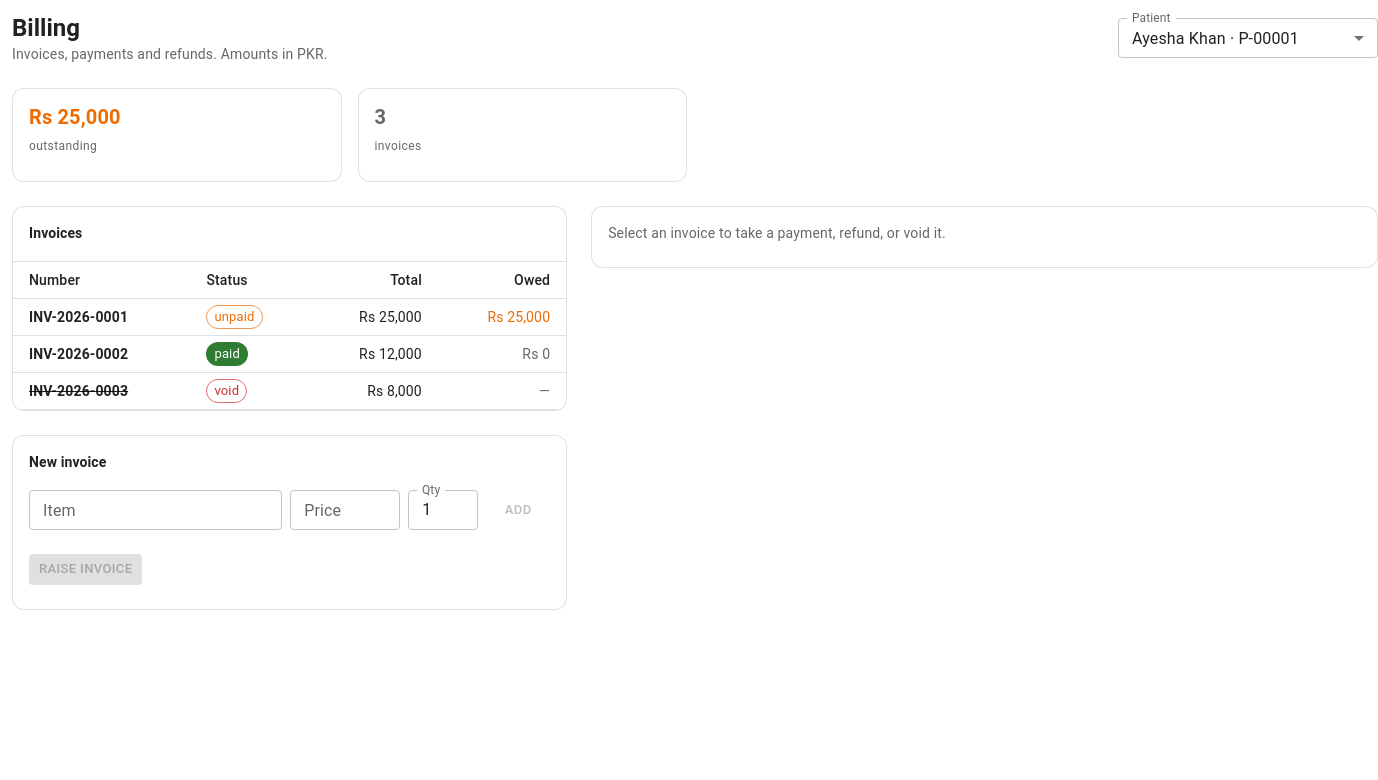
Test case: taking a payment › offers no payment box once the invoice is settled
This screenshot has width=1378, height=780.
Click the text "INV-2026-0002" at (102, 354), box [13,336,190,372]
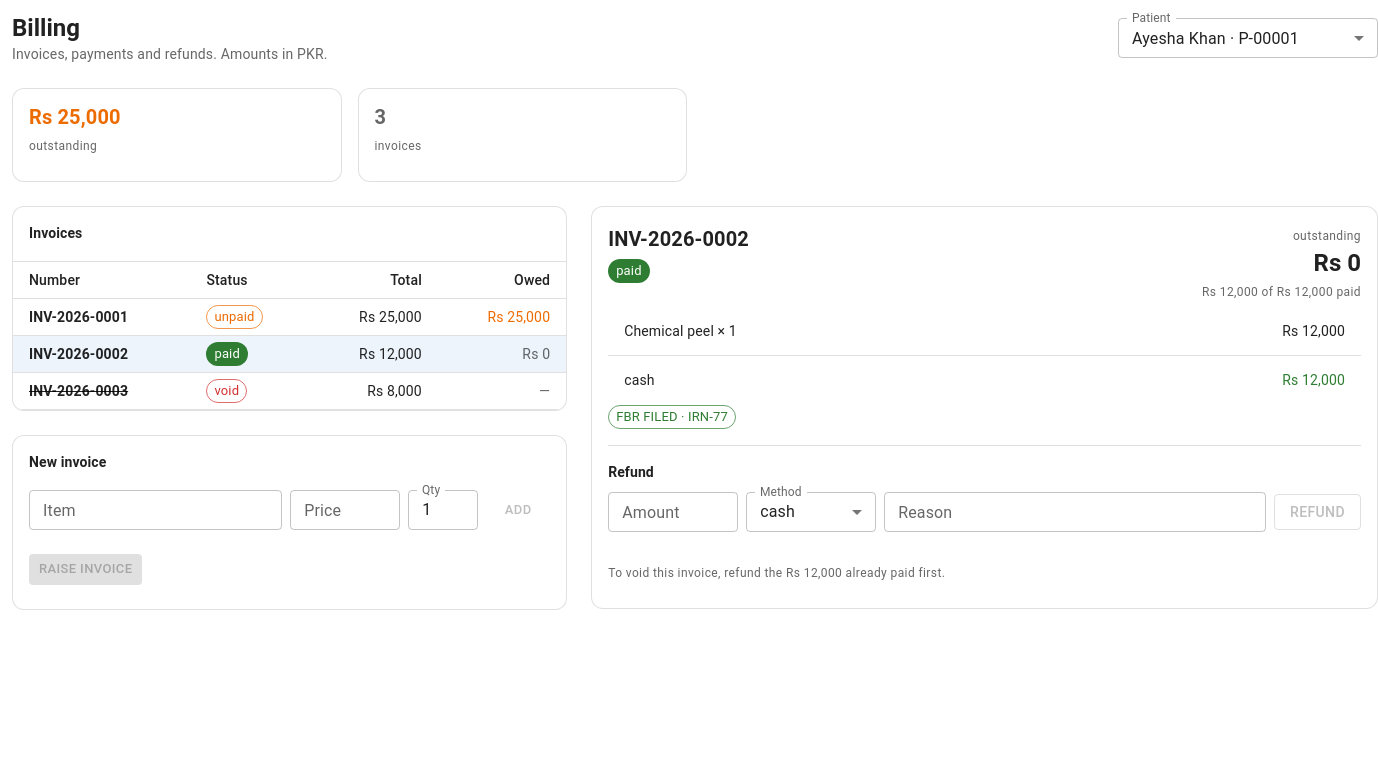
Result: the heading "INV-2026-0002" is shown at [608,223,749,255]
Result: the text "take a payment" is gone
Result: the button "Refund" is shown at [1274,494,1361,530]
